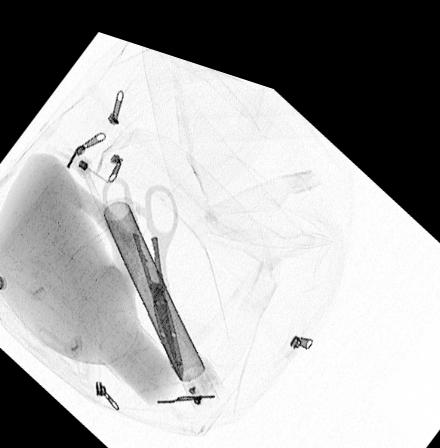Scissors: (100, 167, 185, 372)
